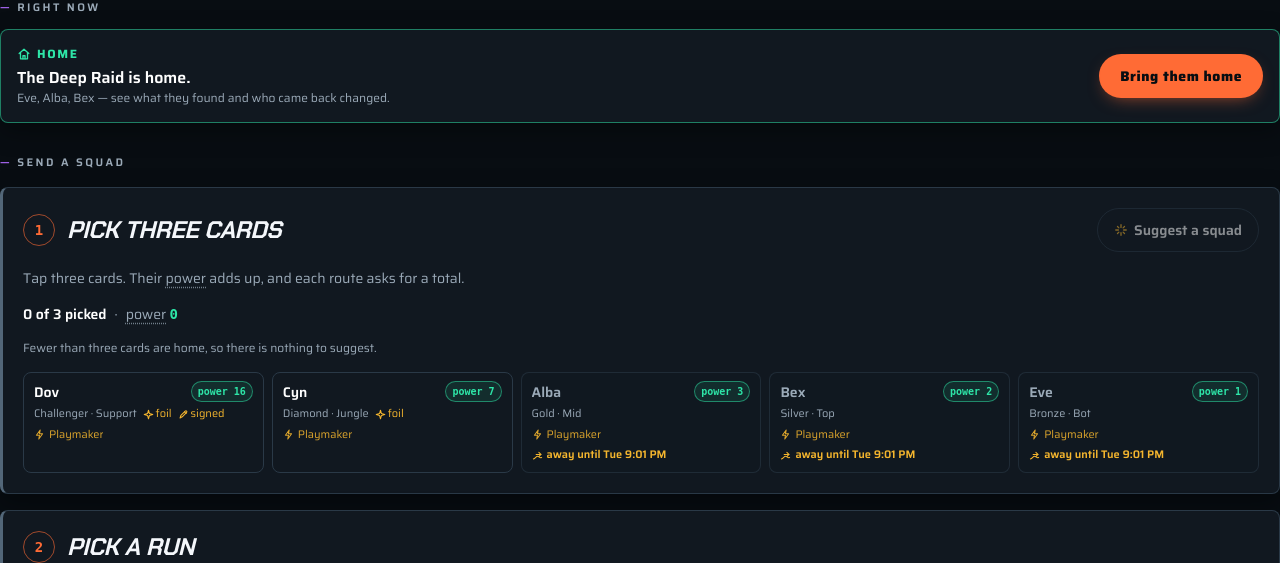
ExpeditionBoard — the claim ceremony › surfaces a refused claim, and re-reads the server so a paid run can't stick
Click the button with aria-label "Claim the Deep Raid" at (1181, 76), box [1099,54,1263,98]
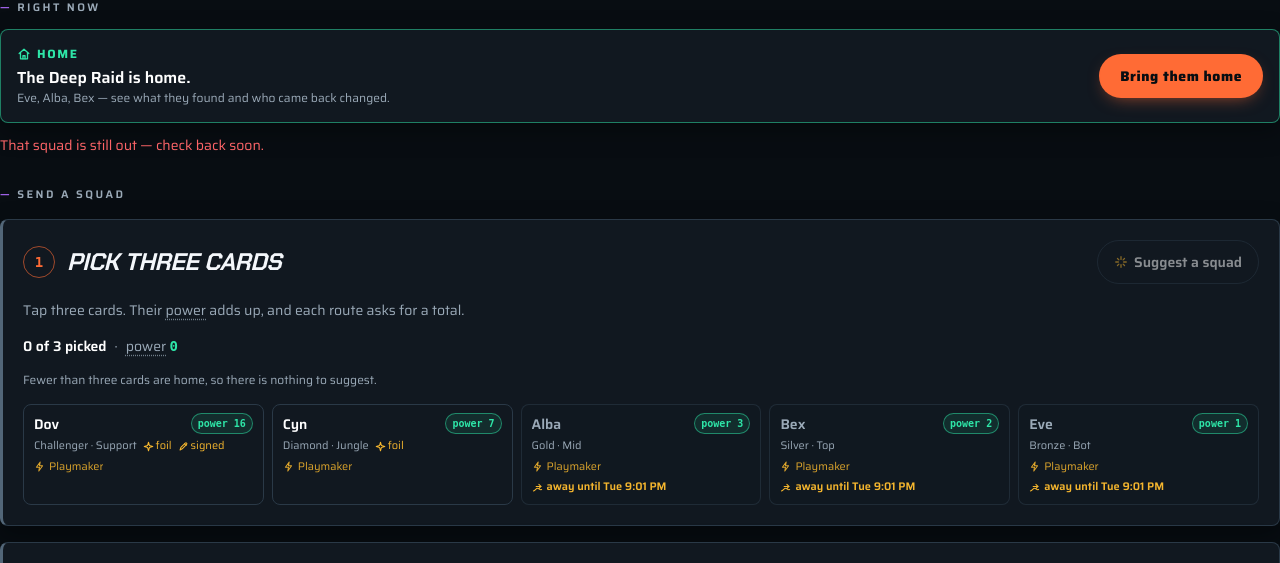
Expected: the text "That squad is still out — check back soon." is shown, [0,134,264,156]
